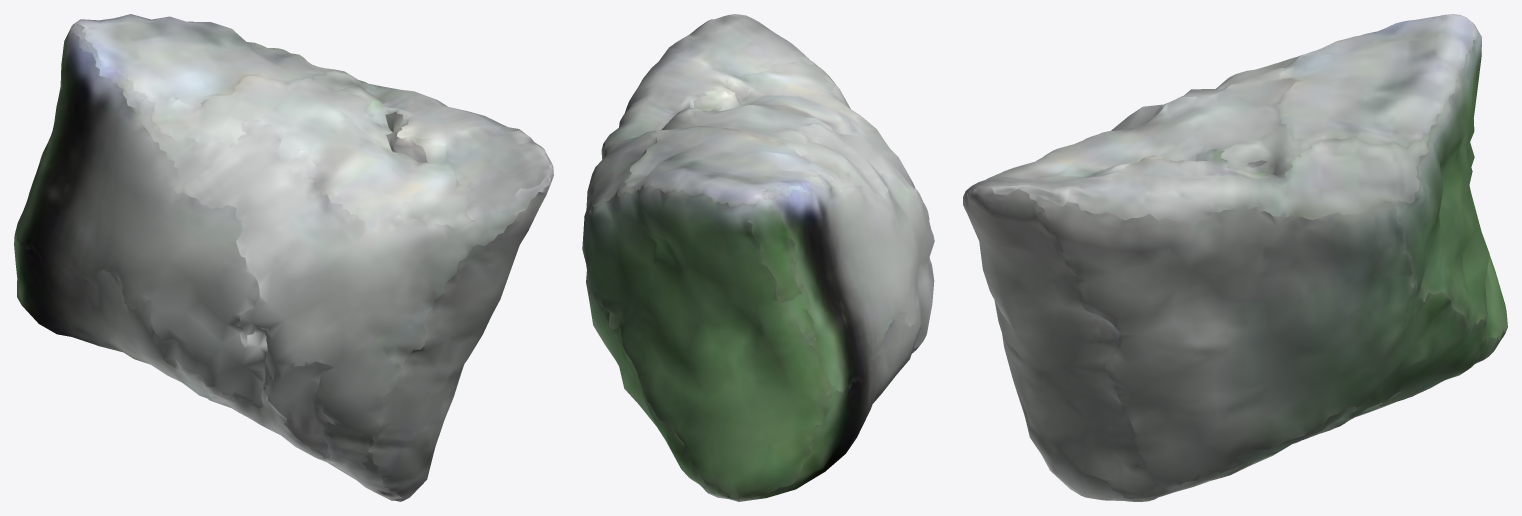
File: 13_pillow.glb
3 views of the same model, side by side, from view 1: azimuth 30°, elevation 25°; view 2: azimuth 150°, elevation 25°; view 3: azimuth 270°, elevation 25° (orthographic). The views are drawn at different scales.
Parts seen in each view (by area): view 1: 13_pillow; view 2: 13_pillow; view 3: 13_pillow.
Boxes of the visible parts, bbox=[...] form: 13_pillow: bbox=[14, 14, 553, 501]; 13_pillow: bbox=[582, 14, 934, 501]; 13_pillow: bbox=[963, 14, 1507, 501].
Size of the model in its own units: 0.3977 by 0.4218 by 0.5119.
Materials: 1 (1 with a texture image).
